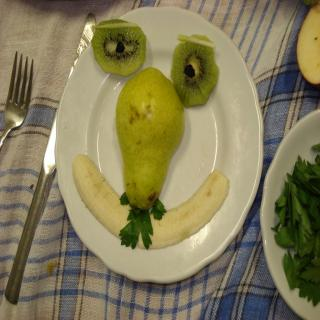Pear: (116, 67, 186, 210)
